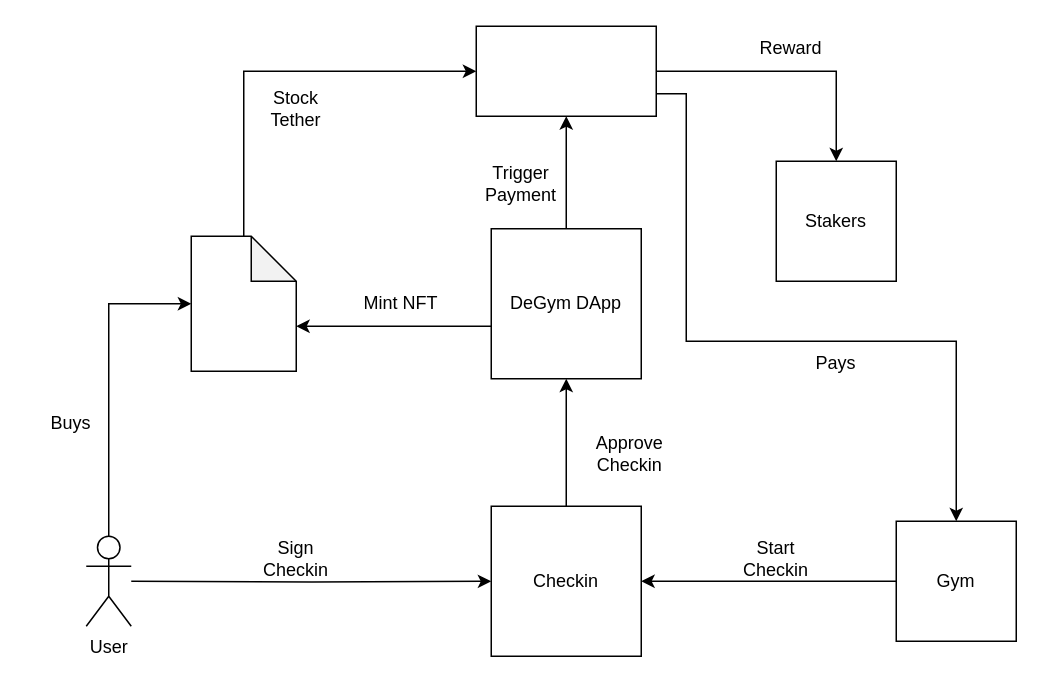
This 1043x684 diagram has some shape labels left out. The centre of each missing label's shape, as x and y in pixels:
"Gym Access NFT" goes at (243,303).
"NFT Sales Stock" goes at (565,70).
